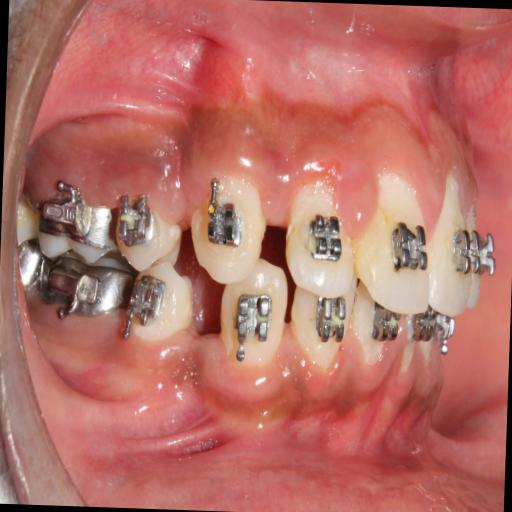correct_brace: (108, 187, 186, 276), (198, 186, 248, 261), (300, 206, 348, 271), (386, 210, 431, 278)
incorrect_brace: (282, 181, 360, 301), (112, 192, 158, 251)
